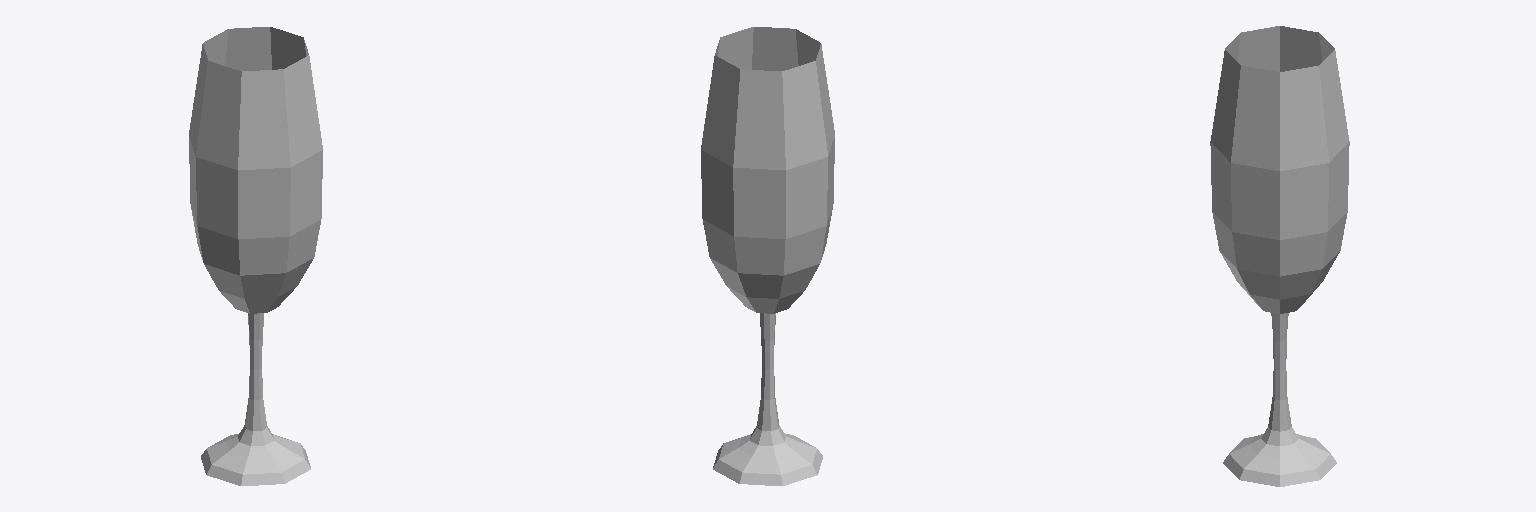
File: sercups_champagne_flute.obj
3 views of the same model, side by side, from view 1: azimuth 30°, elevation 25°; view 2: azimuth 150°, elevation 25°; view 3: azimuth 270°, elevation 25° (orthographic).
Visible parts, largest first — view 1: sercups_champagne_flute_Cylinder.102; view 2: sercups_champagne_flute_Cylinder.102; view 3: sercups_champagne_flute_Cylinder.102.
Part boxes in pixels (bbox=[...]): sercups_champagne_flute_Cylinder.102: bbox=[189, 27, 322, 485]; sercups_champagne_flute_Cylinder.102: bbox=[701, 27, 834, 485]; sercups_champagne_flute_Cylinder.102: bbox=[1210, 26, 1349, 486].
Bounding box in the file's own units: 1.32 × 4.33 × 1.32.